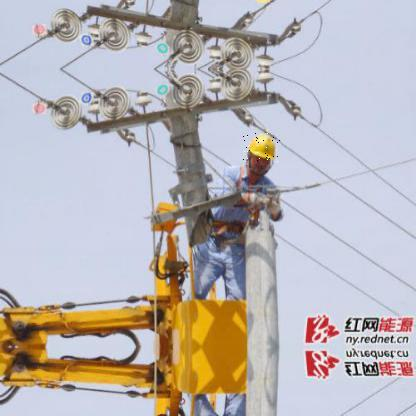safetyhelmet: (243, 134, 282, 164)
